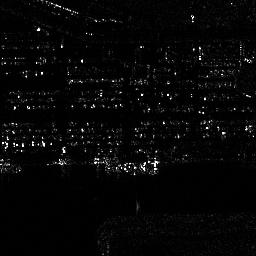ship: (104, 159, 161, 175)
